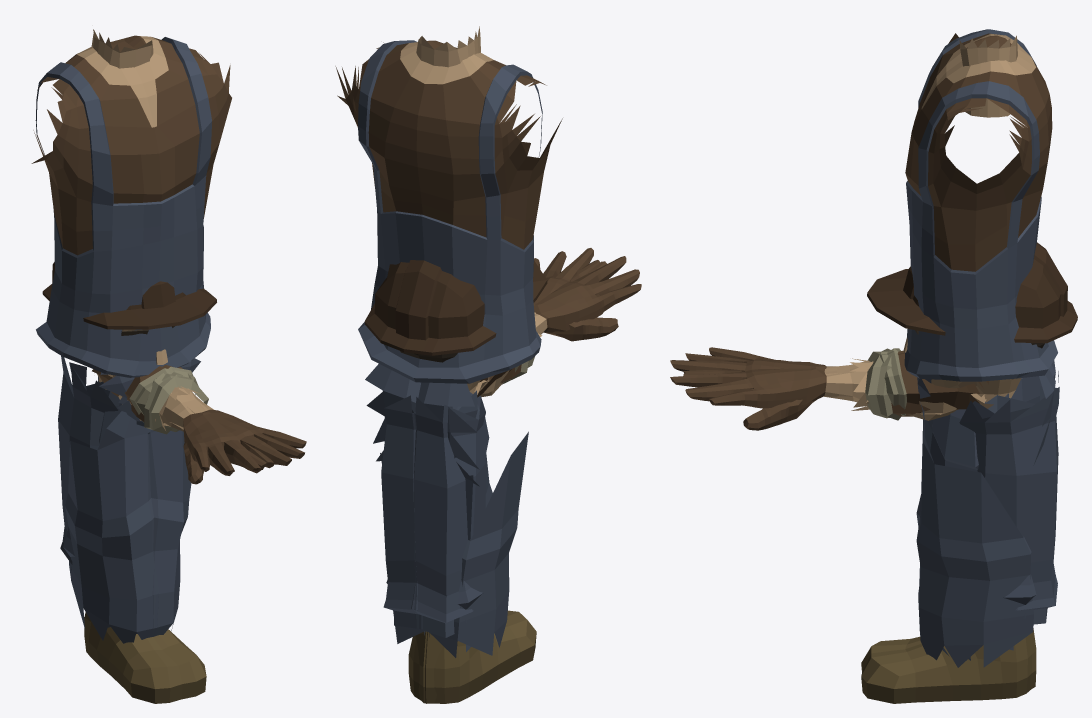
File: loner_farmer.glb
3 views of the same model, side by side, from view 1: azimuth 30°, elevation 25°; view 2: azimuth 150°, elevation 25°; view 3: azimuth 270°, elevation 25° (orthographic). The views are drawn at different scales.
Parts seen in each view (by area): view 1: torso, thighL, thighR, shinL, shinR, head, foreR, foreL, upperR, upperL; view 2: torso, shinL, shinR, head, thighL, foreR, foreL, thighR; view 3: torso, thighR, shinR, shinL, head, foreL, foreR, thighL, upperL, upperR.
Part boxes in pixels (left/top/right/bottom): torso: left=31, top=29, right=231, bottom=426; thighL: left=65, top=396, right=159, bottom=643; thighR: left=97, top=376, right=191, bottom=636; shinL: left=58, top=356, right=206, bottom=699; shinR: left=63, top=362, right=182, bottom=703; head: left=42, top=262, right=216, bottom=377; foreR: left=98, top=376, right=276, bottom=475; foreL: left=118, top=388, right=306, bottom=484; upperR: left=92, top=366, right=208, bottom=431; upperL: left=131, top=365, right=198, bottom=434; torso: left=335, top=26, right=562, bottom=486; shinL: left=386, top=397, right=485, bottom=703; shinR: left=381, top=390, right=536, bottom=703; head: left=364, top=260, right=547, bottom=393; thighL: left=429, top=431, right=528, bottom=657; foreR: left=474, top=256, right=641, bottom=397; foreL: left=479, top=248, right=618, bottom=393; thighR: left=380, top=390, right=492, bottom=651; torso: left=904, top=29, right=1057, bottom=465; thighR: left=916, top=410, right=1033, bottom=667; shinR: left=861, top=387, right=1059, bottom=689; shinL: left=861, top=371, right=1058, bottom=703; head: left=867, top=242, right=1077, bottom=402; foreL: left=670, top=367, right=993, bottom=420; foreR: left=670, top=347, right=956, bottom=430; thighL: left=916, top=376, right=1041, bottom=660; upperL: left=850, top=348, right=988, bottom=415; upperR: left=850, top=348, right=974, bottom=420.
Size of the model in its own units: 0.3594 by 1.1 by 0.6166.
